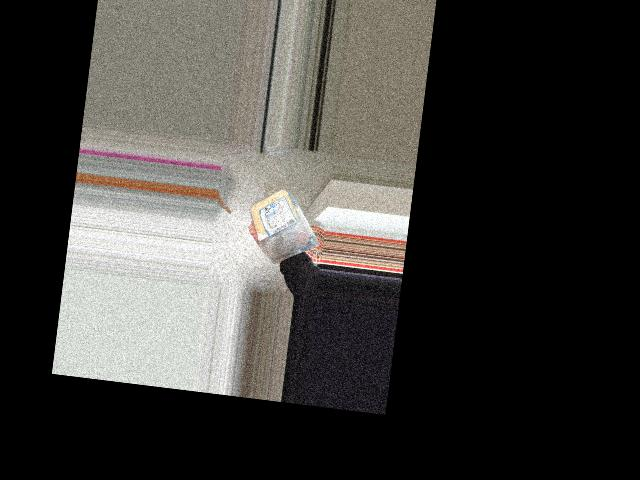cheese: (252, 185, 296, 254)
